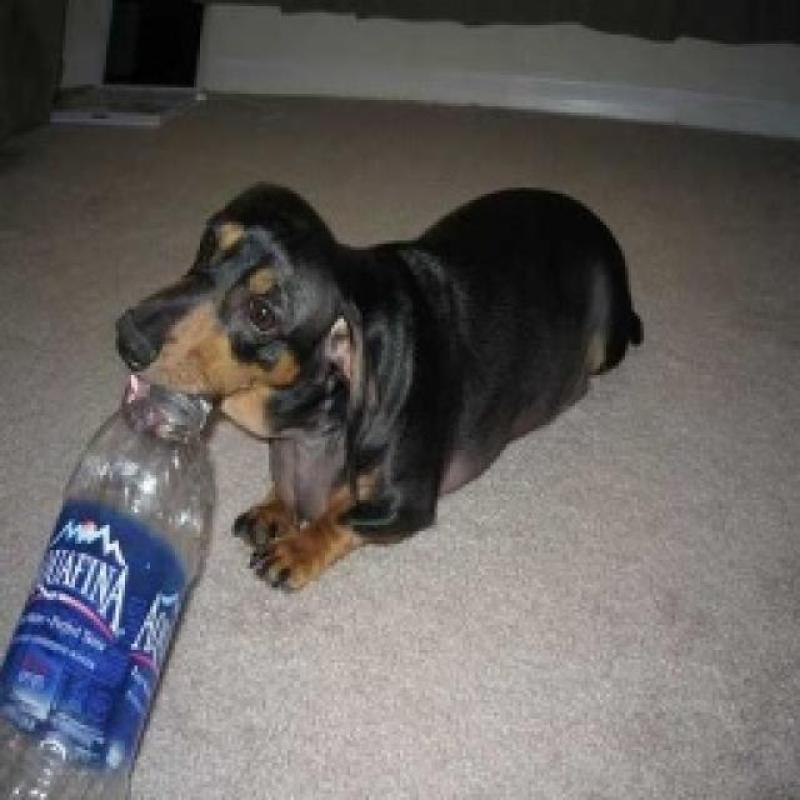botella: (0, 378, 215, 798)
